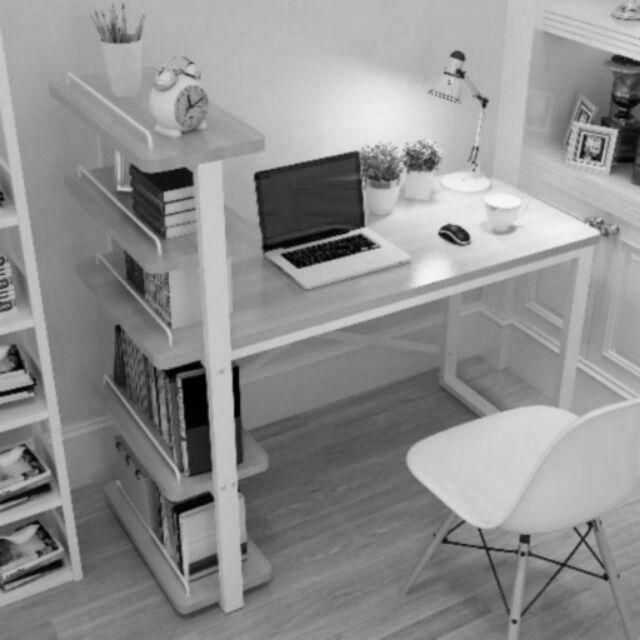table: (85, 147, 630, 365)
